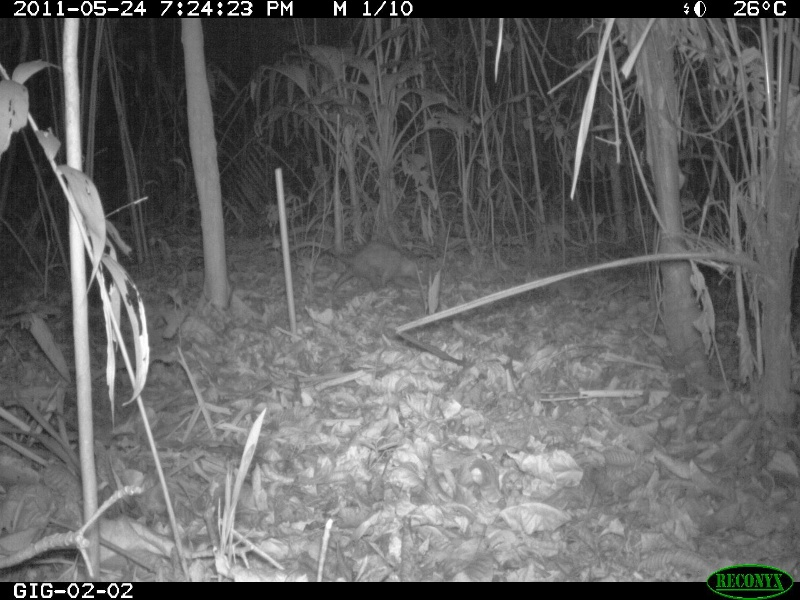opossum: (282, 233, 433, 293)
